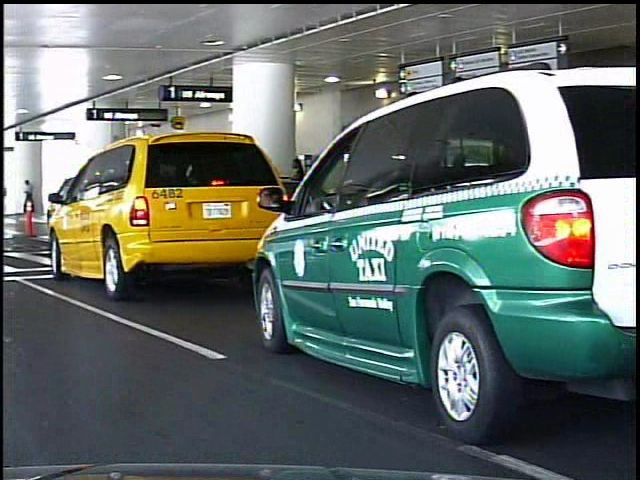person: (19, 177, 32, 202)
